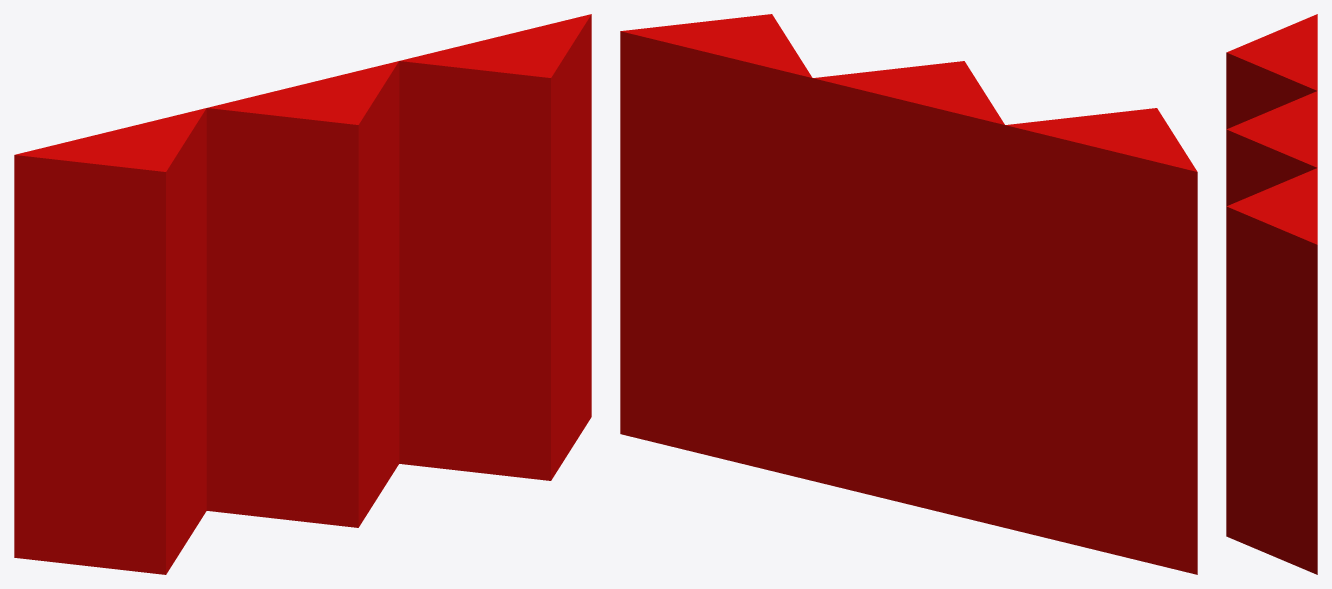
File: template.glb
The picture shows the model from 3 angles, left to right: view 1: azimuth 30°, elevation 25°; view 2: azimuth 150°, elevation 25°; view 3: azimuth 270°, elevation 25°; orthographic projection. The views are drawn at different scales.
Parts seen in each view (by area): view 1: 001.Element.005, 000.Element.005, 002.Element.005, 001.Element.000, 000.Element.000, 002.Element.000; view 2: 001.Element.005, 000.Element.005, 002.Element.005, 001.Element.000, 002.Element.000, 000.Element.000; view 3: 000.Element.005, 000.Element.000, 001.Element.005, 002.Element.005.
Boxes of the visible parts, x1,y1,x2,y2 form: 001.Element.005: (206, 61, 399, 326); 000.Element.005: (399, 14, 591, 279); 002.Element.005: (14, 108, 206, 373); 001.Element.000: (206, 263, 399, 527); 000.Element.000: (399, 216, 591, 480); 002.Element.000: (14, 310, 206, 574); 001.Element.005: (812, 61, 1005, 326); 000.Element.005: (620, 14, 812, 279); 002.Element.005: (1005, 108, 1197, 373); 001.Element.000: (812, 279, 1005, 527); 002.Element.000: (1005, 326, 1197, 574); 000.Element.000: (620, 232, 812, 480); 000.Element.005: (1226, 168, 1317, 409); 000.Element.000: (1226, 371, 1317, 574); 001.Element.005: (1226, 91, 1317, 206); 002.Element.005: (1226, 14, 1317, 129).
Size of what is drawn, in the model's own units: 3 by 2 by 0.5.
